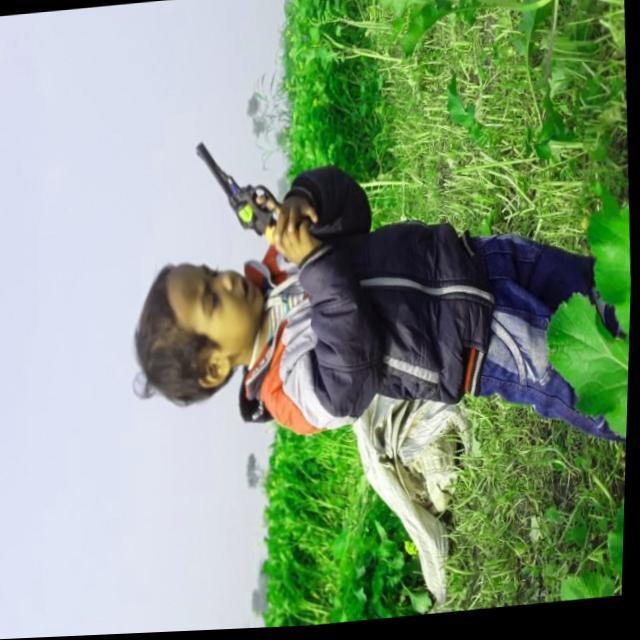weapon: (190, 127, 324, 272)
